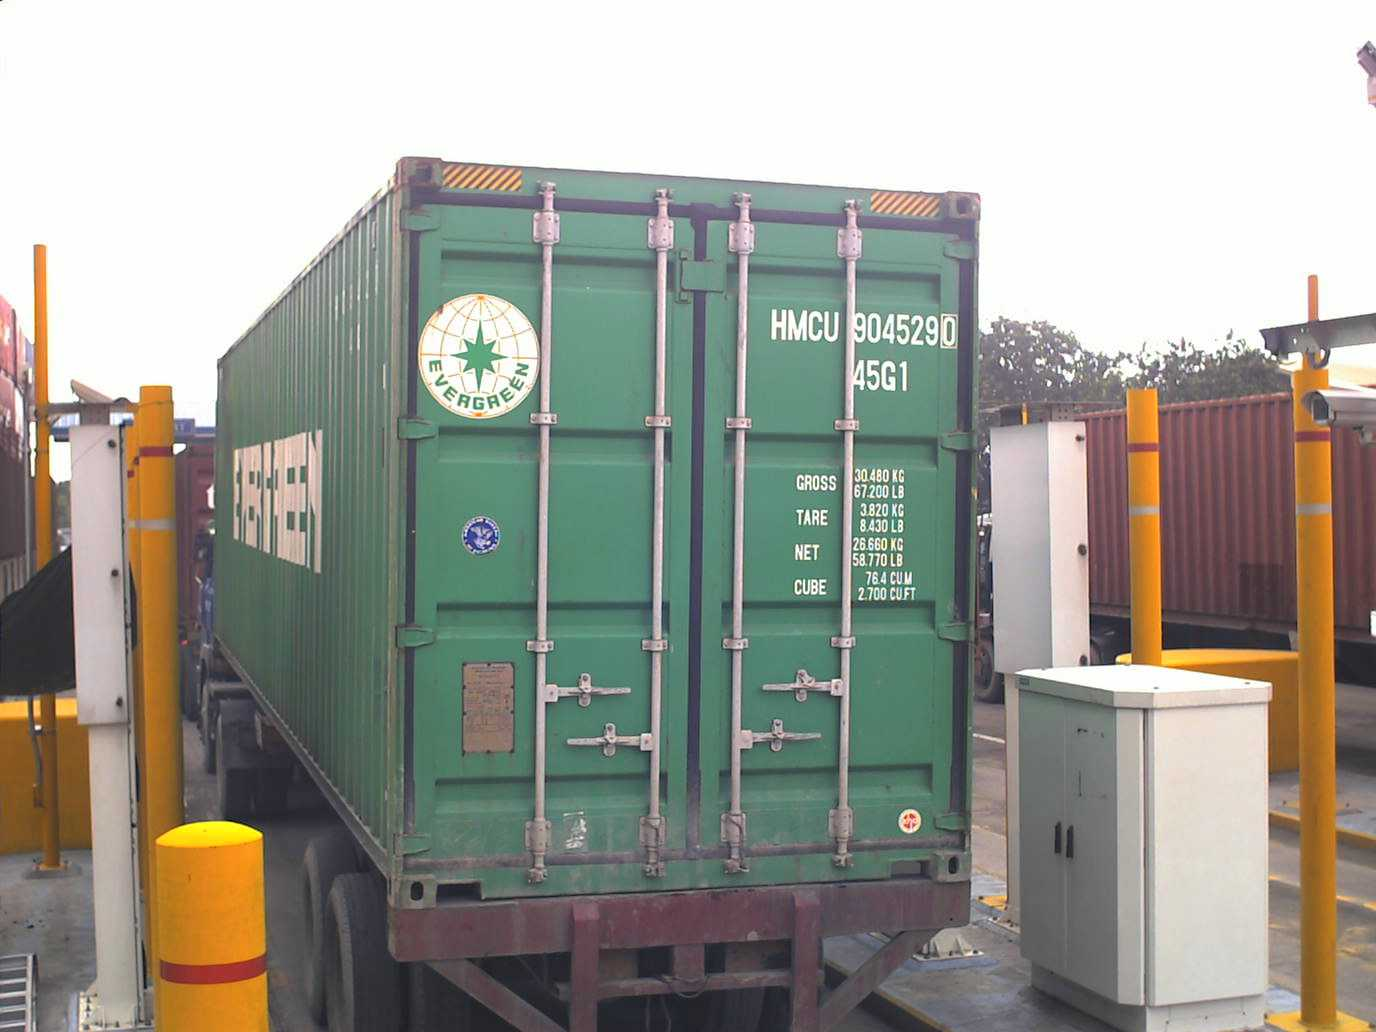container_door: (384, 152, 973, 889)
